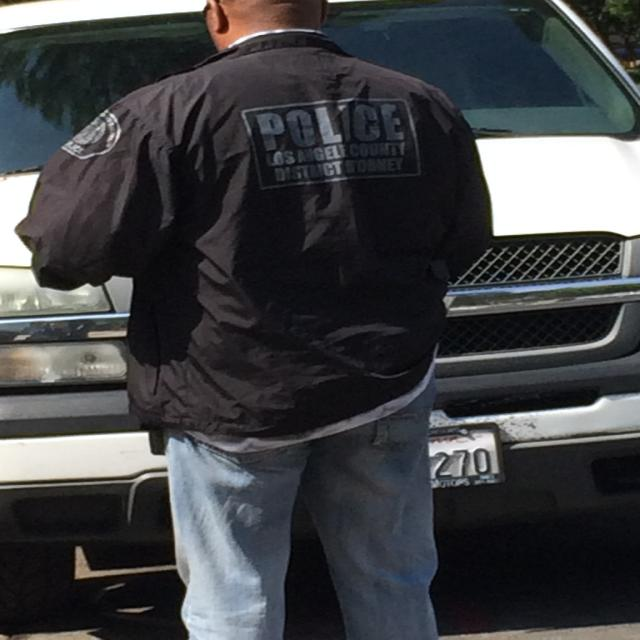car: (0, 1, 638, 608)
